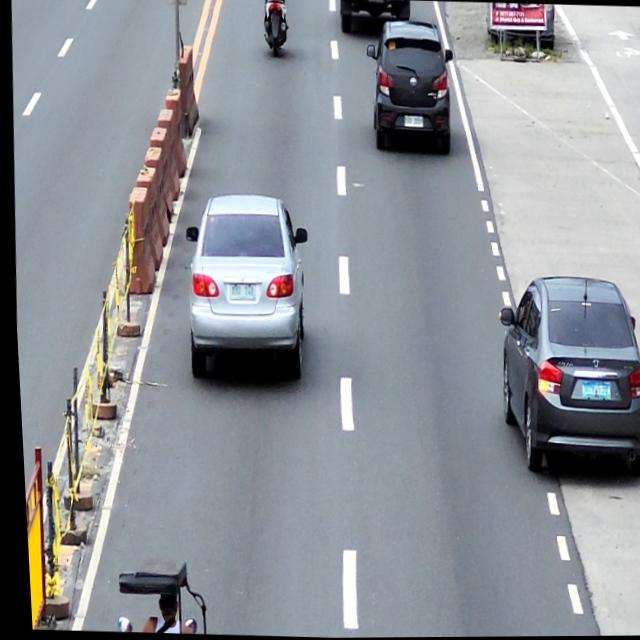Car: (488, 270, 640, 483), (176, 193, 312, 381), (360, 17, 457, 156)
License-Plate: (576, 380, 606, 401), (226, 283, 253, 300), (401, 115, 422, 129)
Motorcycle: (261, 0, 289, 56)
